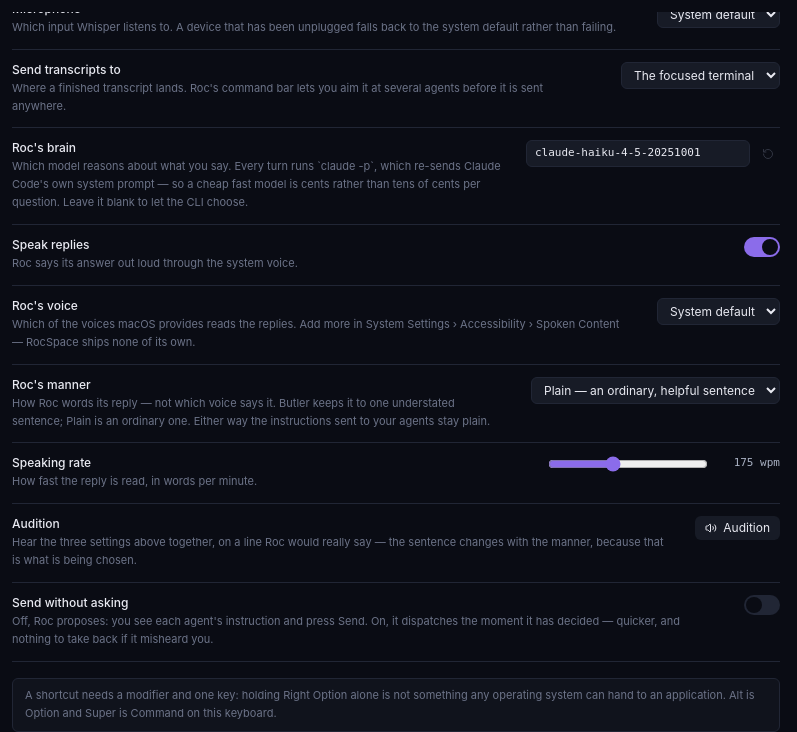
VoiceSection — Roc › shows the speaking rate in words per minute, and stores it
(page scrolled)
Expected: the text "175 wpm" is shown, left=734, top=456, right=780, bottom=469
Set the slider labelled "Speaking rate" to "230" at (669, 464), box left=548, top=456, right=708, bottom=472
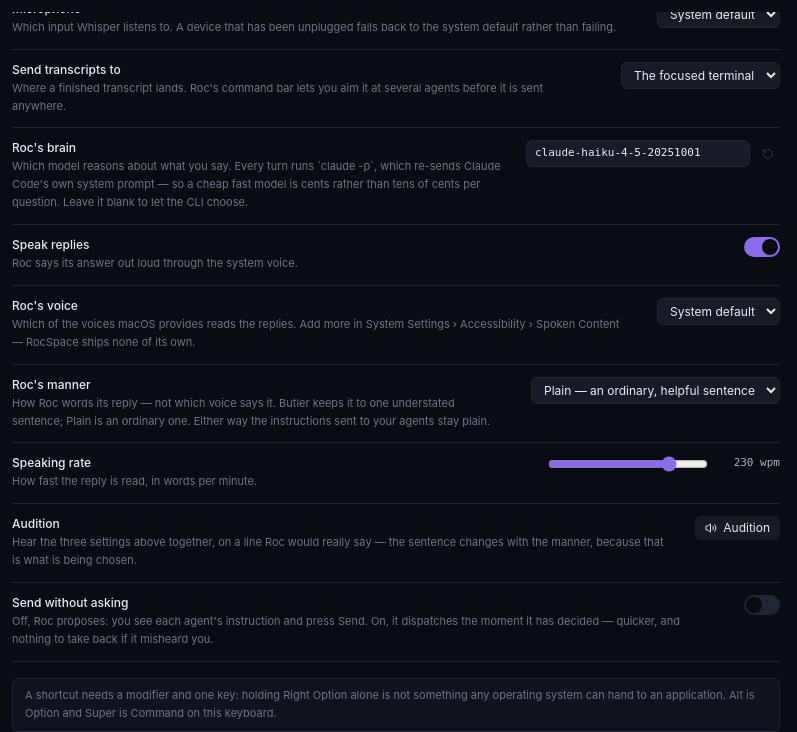
Expected: the text "230 wpm" is shown, left=734, top=456, right=780, bottom=469
